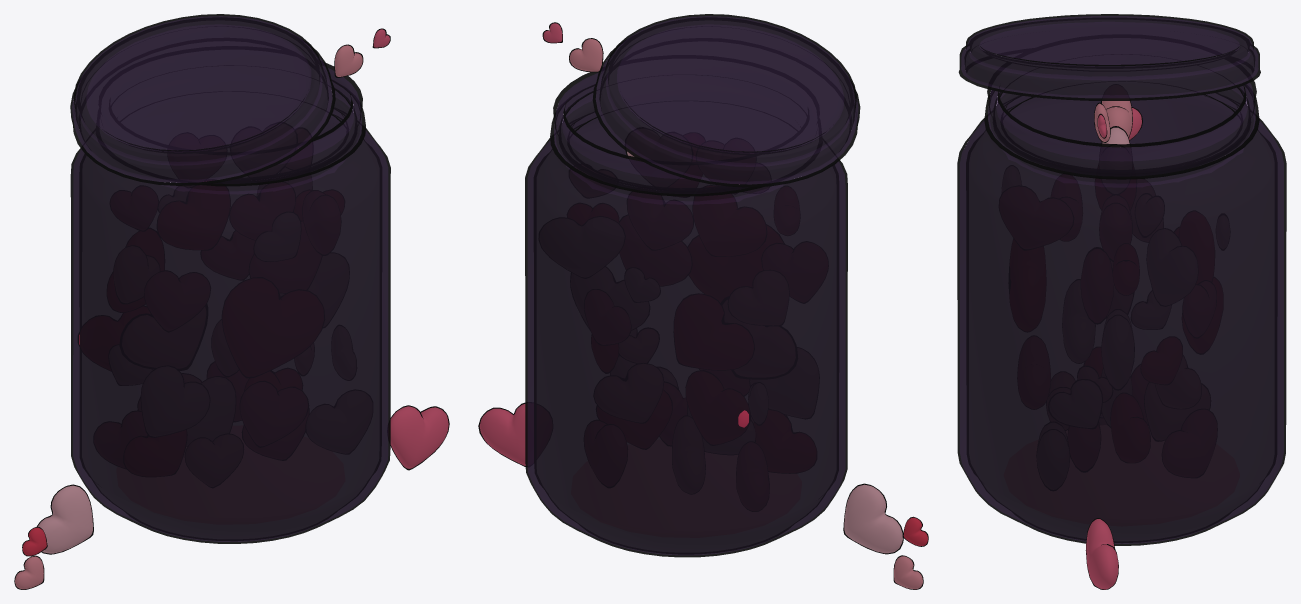
3 views of the same model, side by side, from view 1: azimuth 30°, elevation 25°; view 2: azimuth 150°, elevation 25°; view 3: azimuth 270°, elevation 25° (orthographic). The views are drawn at different scales.
Visible parts, largest first — view 1: Object_7, Object_5, Object_3; view 2: Object_7, Object_5, Object_3; view 3: Object_7, Object_5.
Boxes of the visible parts, <box> form: Object_7: <box>70,14,390,543</box>; Object_5: <box>15,45,448,589</box>; Object_3: <box>14,44,449,589</box>; Object_7: <box>525,14,860,557</box>; Object_5: <box>479,39,927,589</box>; Object_3: <box>478,38,928,589</box>; Object_7: <box>957,14,1286,545</box>; Object_5: <box>1086,101,1141,589</box>.
Bounding box in the file's own units: 3.65 × 3.86 × 2.32.
5 materials, 1 textured.
